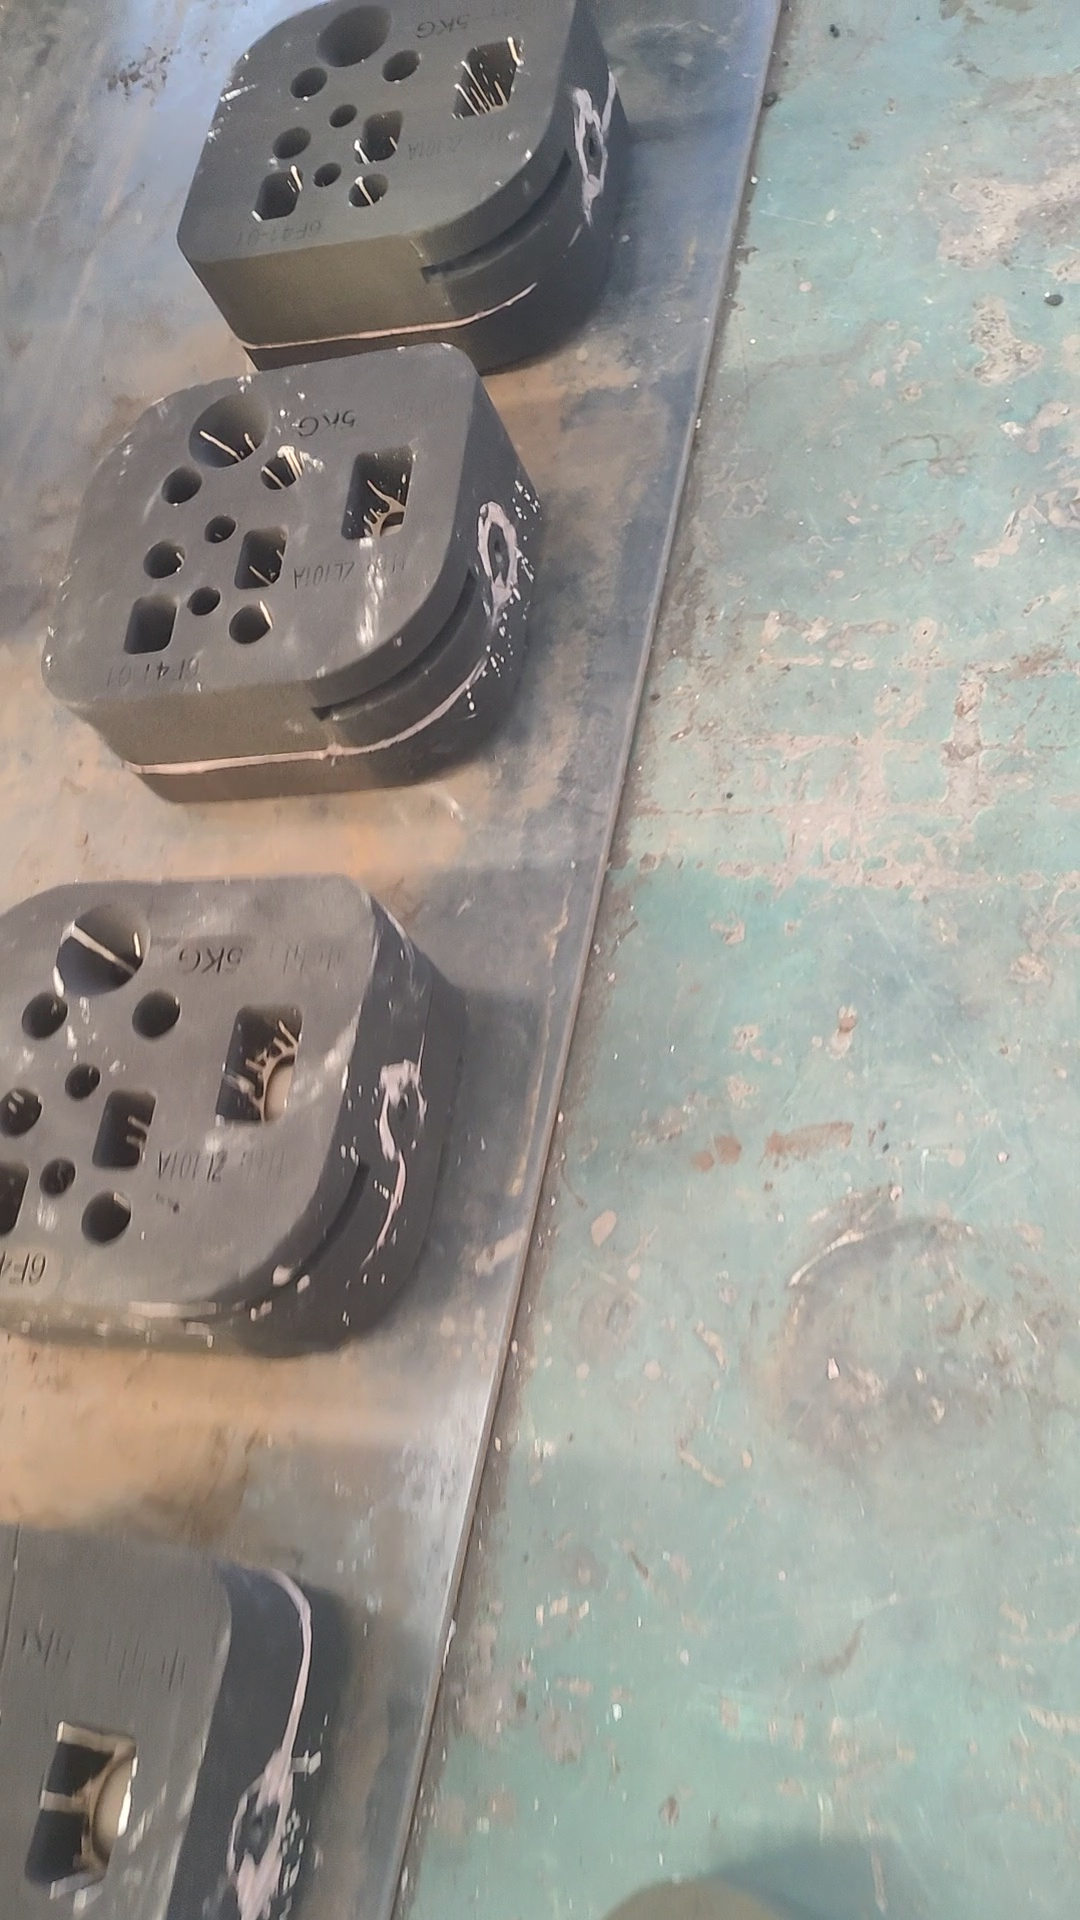pouring hole: (55, 899, 148, 992), (189, 392, 272, 467), (313, 3, 390, 66)
